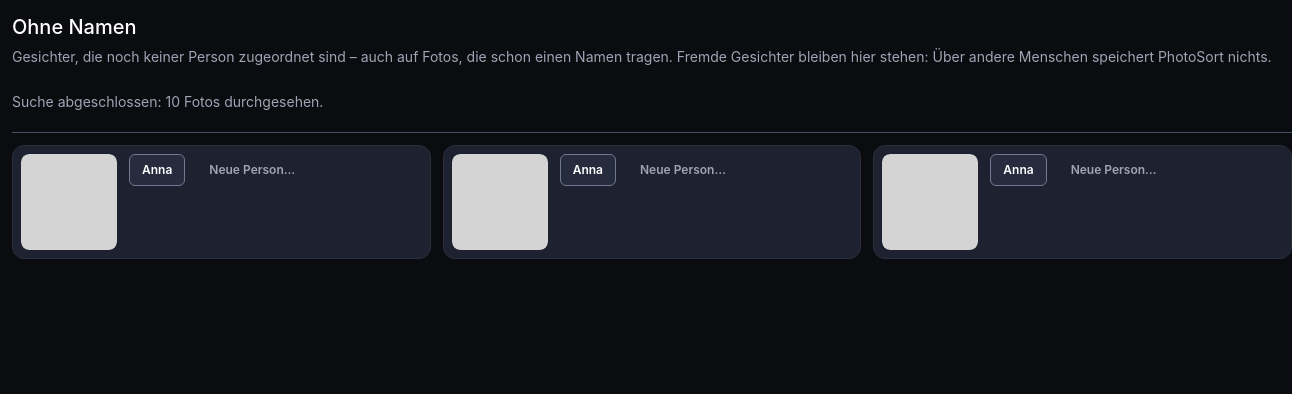
Test: UnnamedFacesGroup - Ablehnungen › markiert bei 409 das Feld und behält die Eingabe
This screenshot has width=1292, height=394.
Click the 1st button "Neue Person…" at (252, 170), box [197,154,307,186]
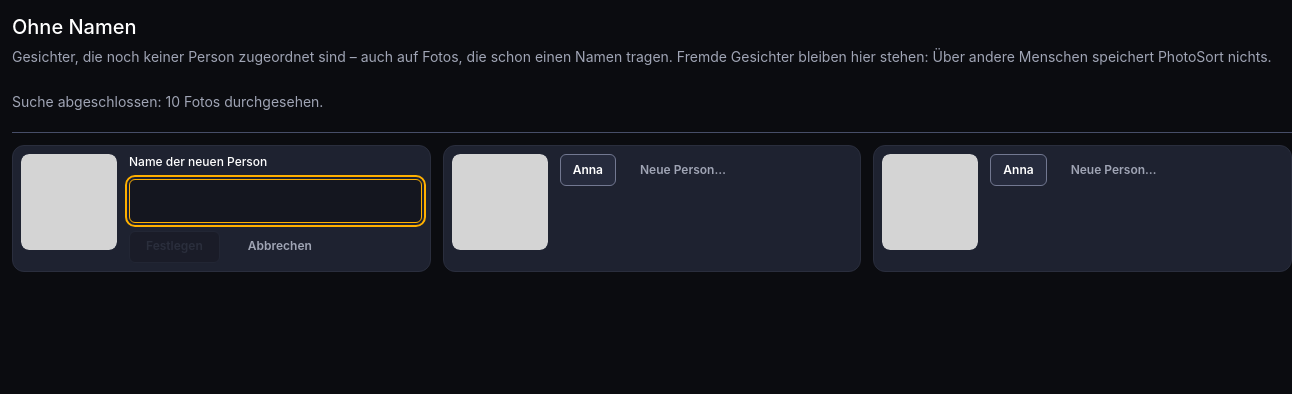
Type "Anna" into the field labelled "Name der neuen Person" at (275, 201), box [129,179,422,223]
Then press Enter
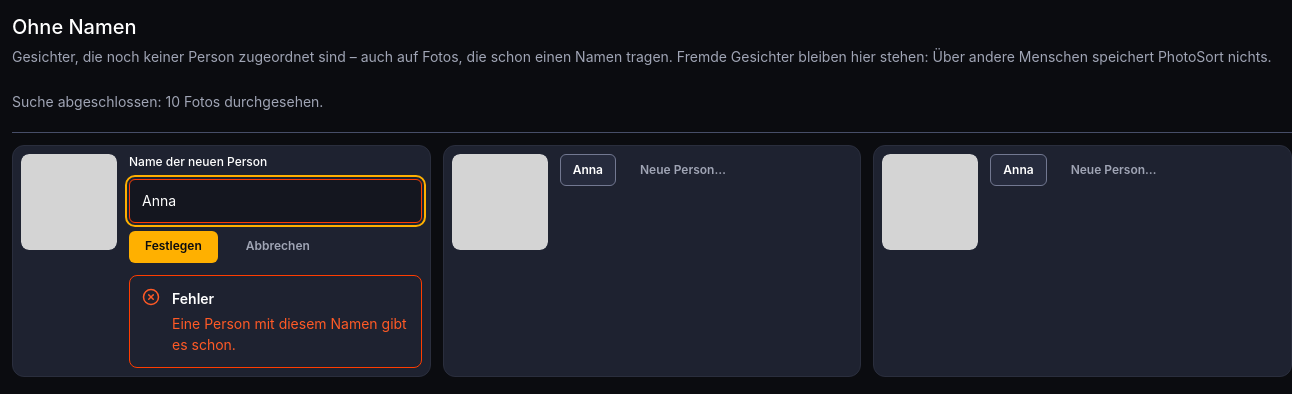
Result: the message "Fehler Eine Person mit diesem Namen gibt es schon." is shown at [129,275,422,368]
